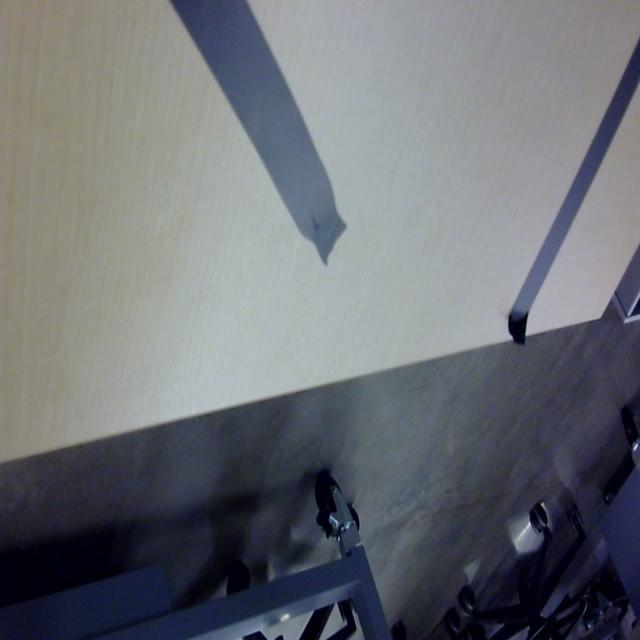tape: (166, 0, 348, 267), (508, 37, 640, 345)
